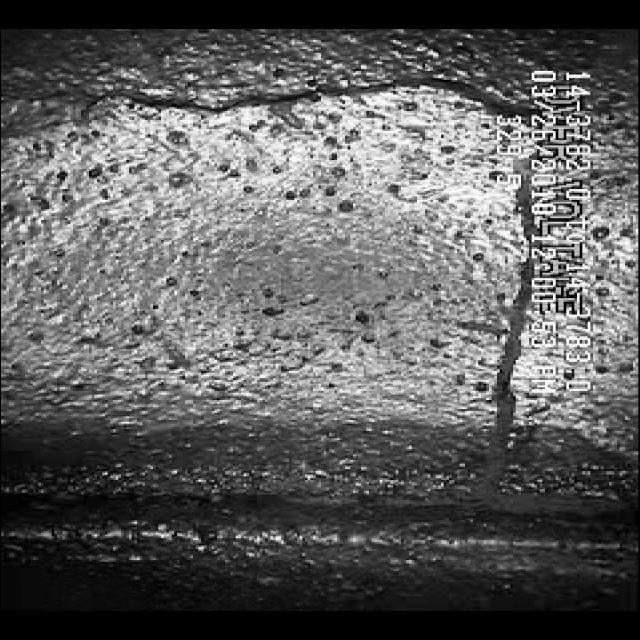Crack: (136, 64, 478, 148), (450, 292, 548, 488)
